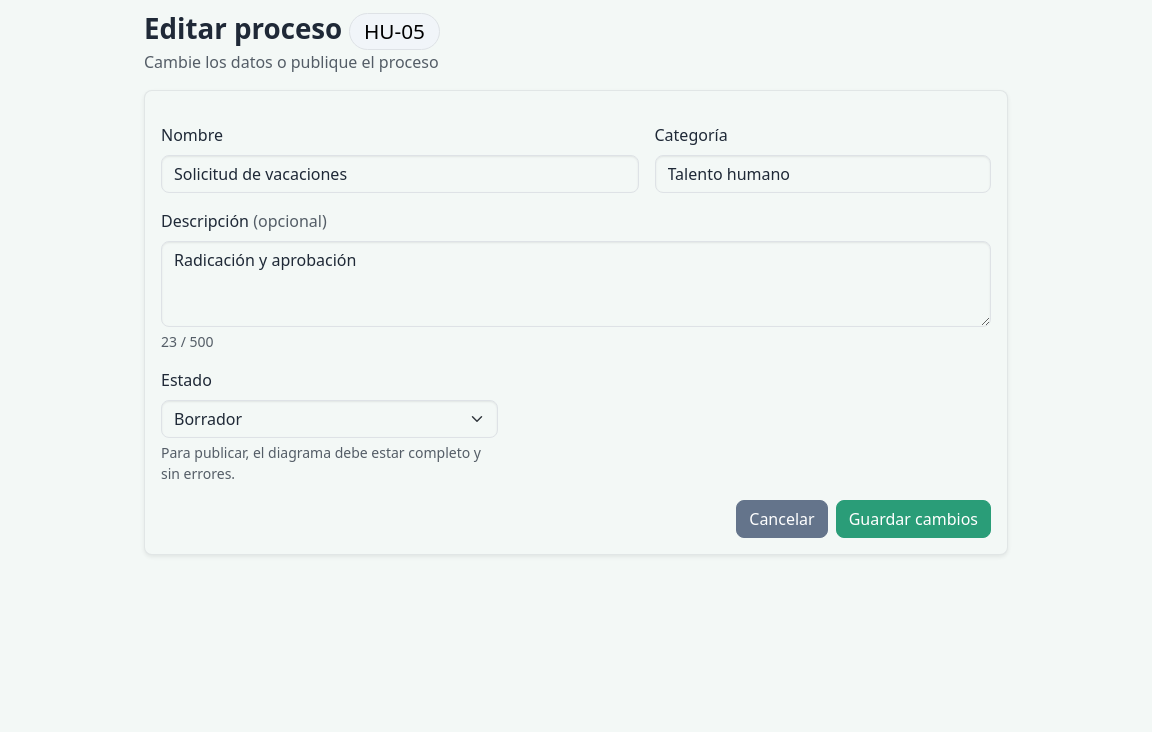
Scenario: ProcesoFormComponent (HU-04, HU-05) › editar: publicar un diagrama incoherente muestra los motivos (409)
This screenshot has width=1152, height=732.
Select "Publicado" in the dropdown with id "estado" at (329, 419), box [161,400,498,438]
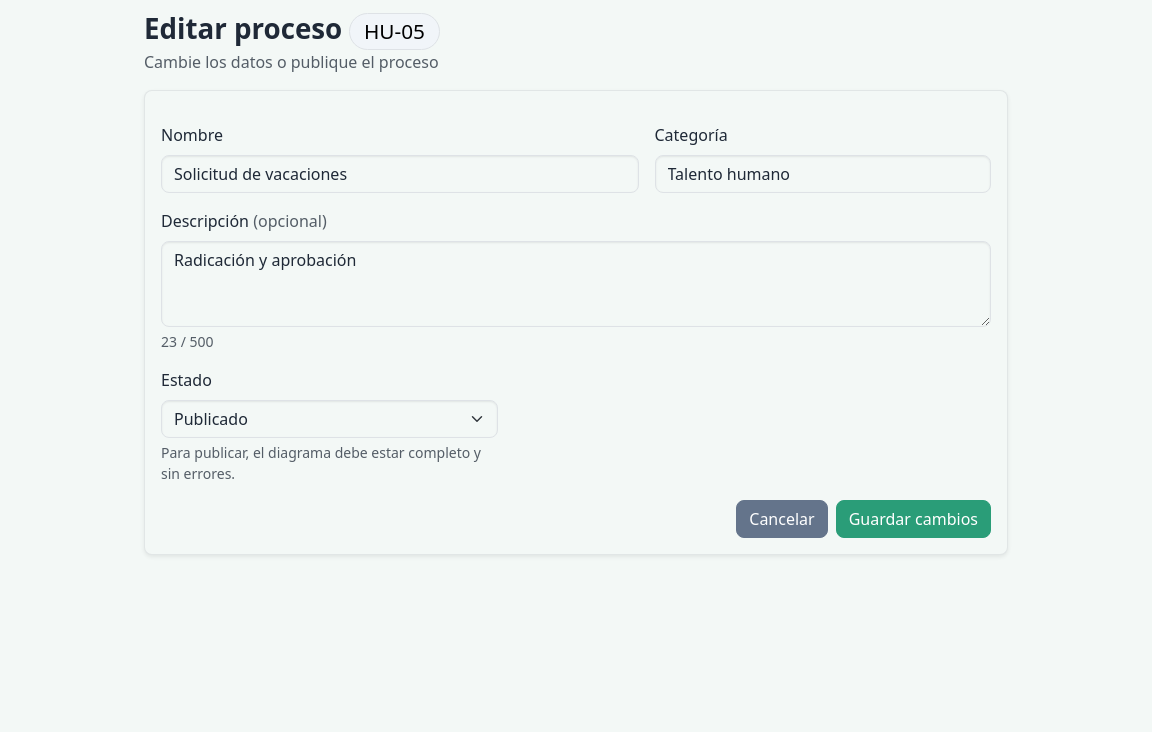
Click the button with id "guardarProcesoBtn" at (913, 519), box [836,500,991,538]
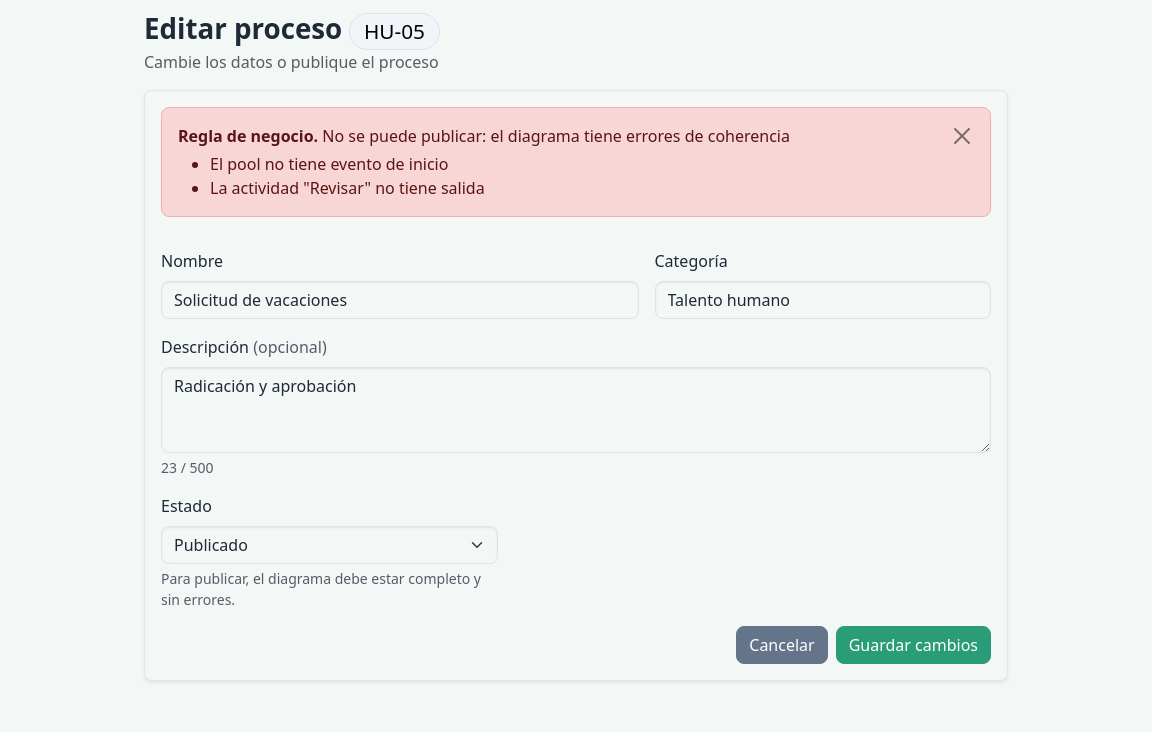
expect the text "El pool no tiene evento de inicio" is shown: met, box [210,153,448,175]
expect the text "La actividad \"Revisar\" no tiene salida" is shown: met, box [210,177,485,199]
